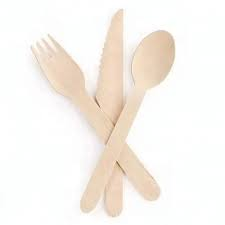Wooden Utensils: (37, 13, 173, 202)
